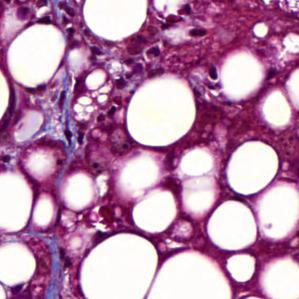steatosis: (227, 139, 278, 196), (82, 0, 148, 43), (207, 199, 257, 252)
